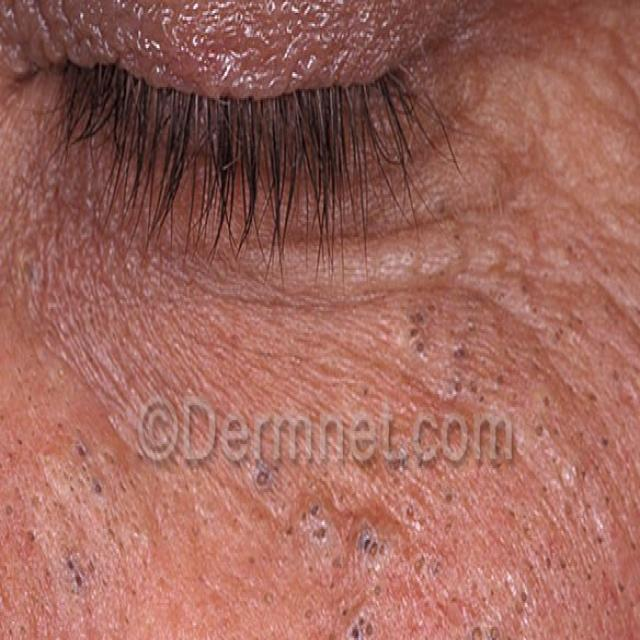Acne: (0, 355, 640, 640)
